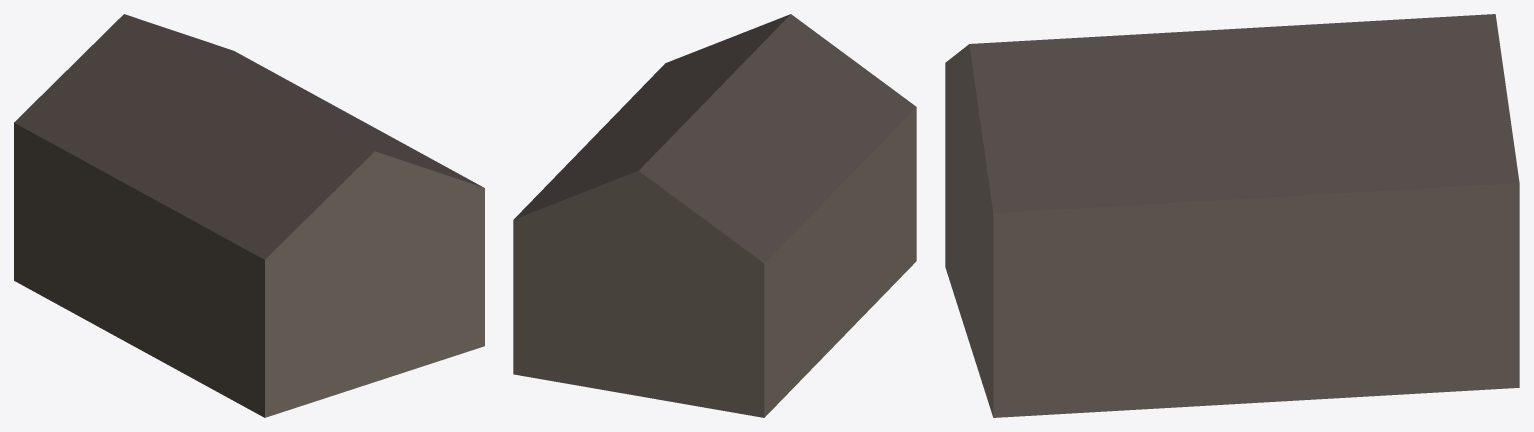
The picture shows the model from 3 angles, left to right: view 1: azimuth 30°, elevation 25°; view 2: azimuth 150°, elevation 25°; view 3: azimuth 270°, elevation 25°; orthographic projection. The views are drawn at different scales.
Parts seen in each view (by area): view 1: HP-w859488880; view 2: HP-w859488880; view 3: HP-w859488880.
Part boxes in pixels (x1,y1,x2,y2): HP-w859488880: (14, 14, 484, 417); HP-w859488880: (513, 14, 916, 417); HP-w859488880: (945, 14, 1519, 417).
Size of the model in its own units: 11.37 by 8.76 by 15.27.
